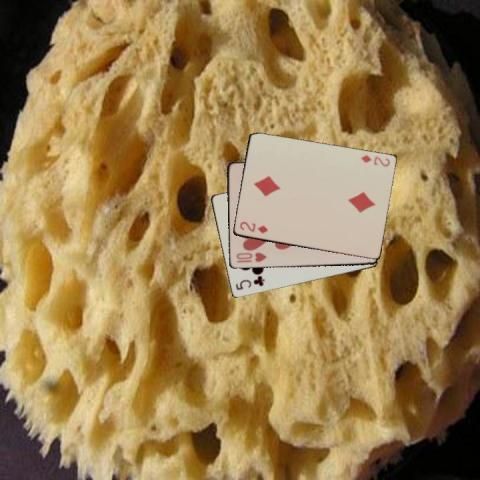10h: (233, 249, 268, 264)
2d: (358, 152, 391, 168), (237, 218, 269, 234)
5c: (233, 274, 266, 291)
